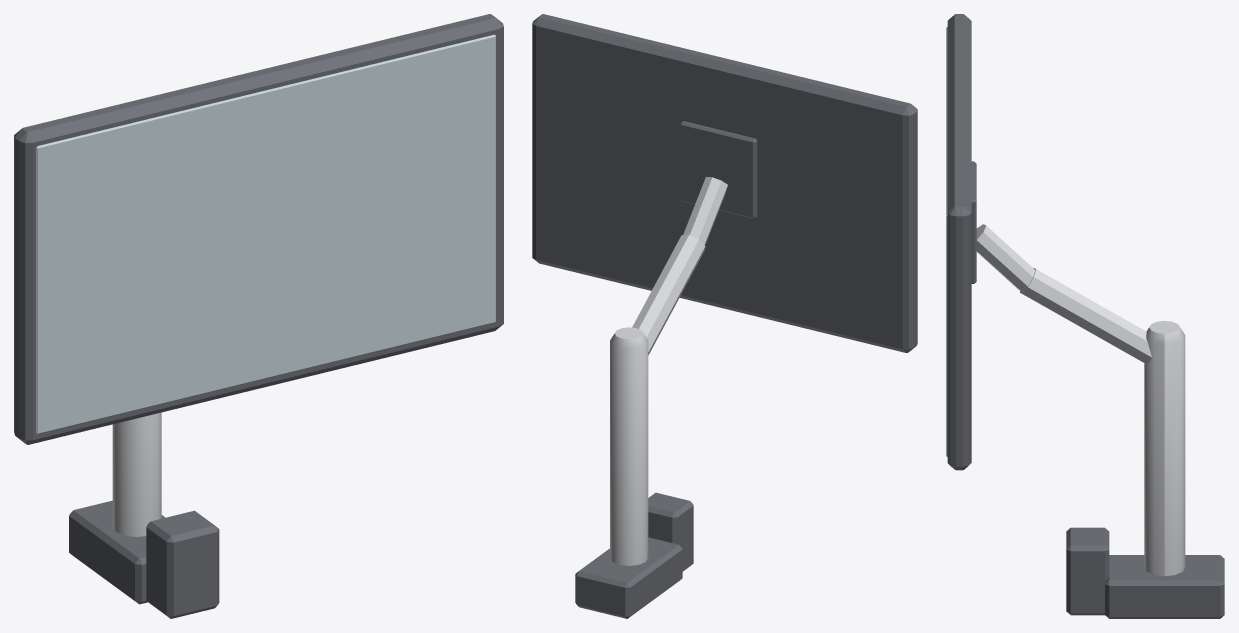
File: police-station-and-detective-office-desk-monitor-arm-6f01e3ec__29958.glb
The picture shows the model from 3 angles, left to right: view 1: azimuth 30°, elevation 25°; view 2: azimuth 150°, elevation 25°; view 3: azimuth 270°, elevation 25°; orthographic projection. The views are drawn at different scales.
Visible parts, largest first — view 1: desk-monitor-arm; view 2: desk-monitor-arm; view 3: desk-monitor-arm.
Boxes of the visible parts, x1,y1,x2,y2 form: desk-monitor-arm: (14,14,503,618); desk-monitor-arm: (532,14,917,618); desk-monitor-arm: (946,14,1224,618).
Bounding box in the file's own units: 0.55 × 0.64 × 0.3254.
